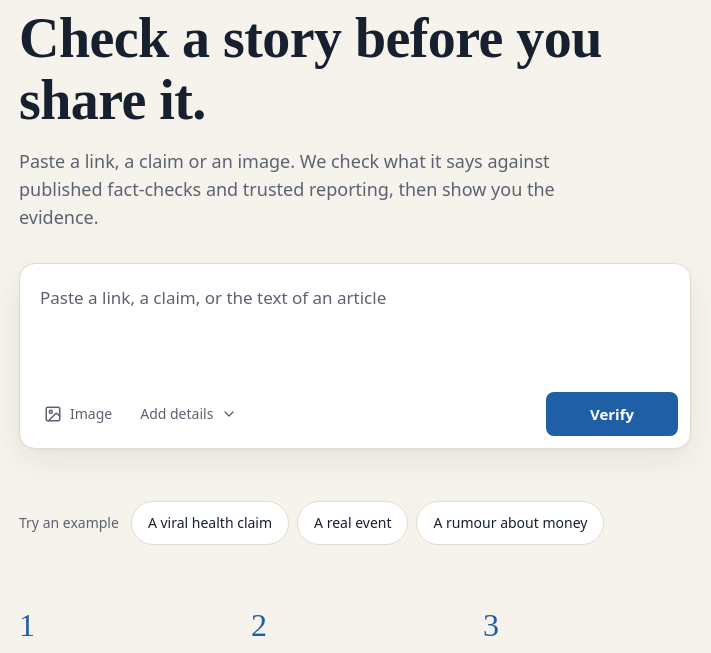
Test: the desk › recognises a pasted link, says so, and sends it as a link
Later steps or results of the test are not shown.
Type "  thehindu.com/news/x " into the text box labelled "Paste a link, a claim, or the text of an article". click: (355,326)
box: [20,264,690,388]
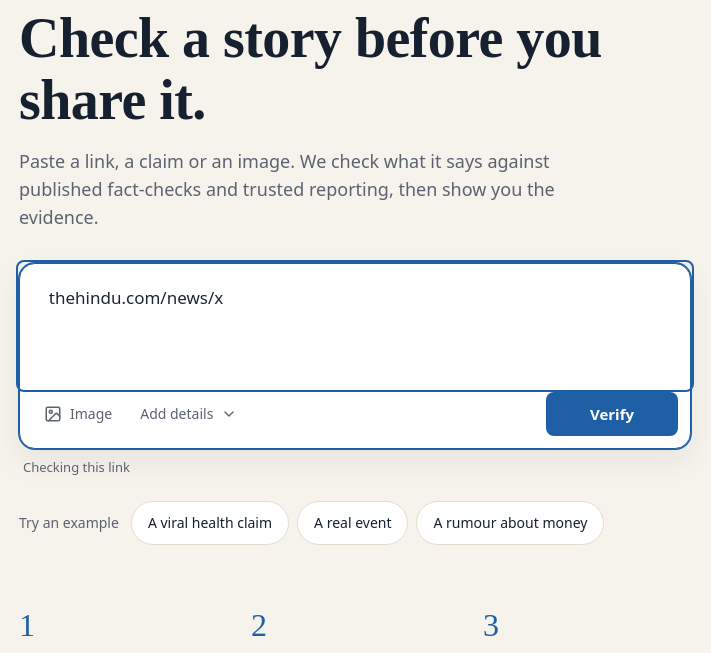
Result: the text "Checking this link" is shown at [23,458,130,476]
